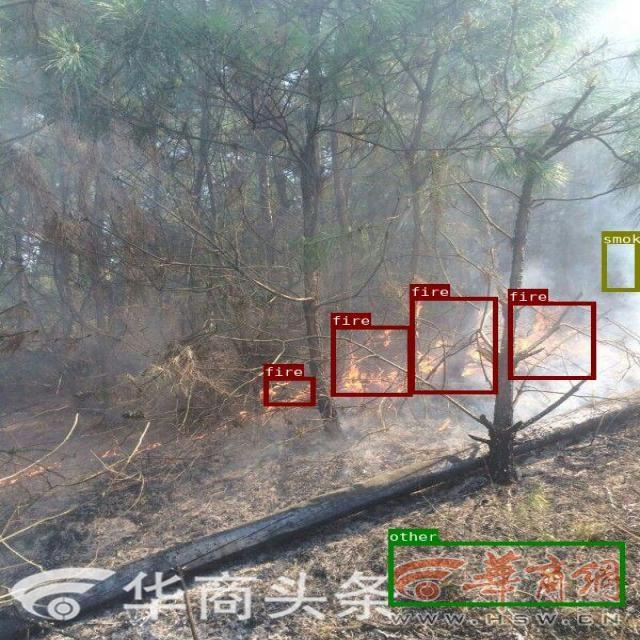fire: (410, 297, 497, 393), (507, 302, 595, 379), (330, 325, 411, 396), (263, 377, 314, 405)
smoke: (600, 231, 638, 291)
